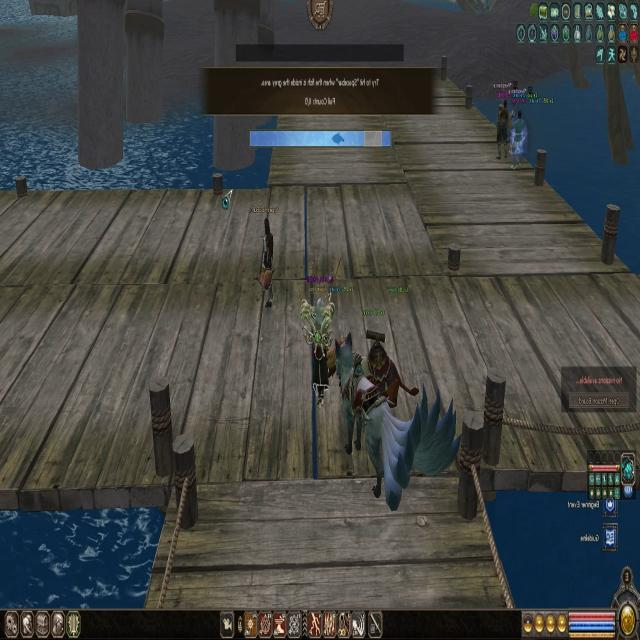fishes: (332, 132, 345, 144)
